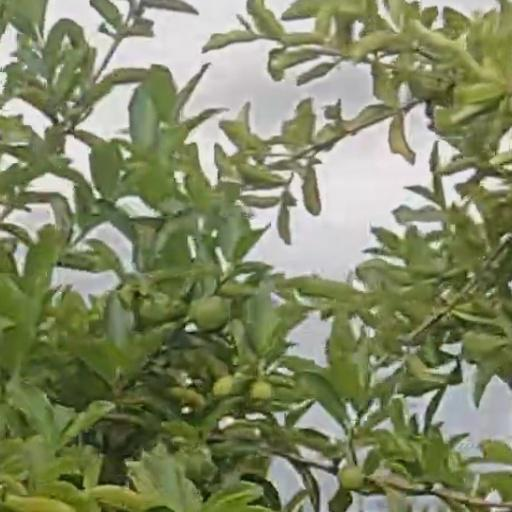acerola: (197, 298, 230, 330)
